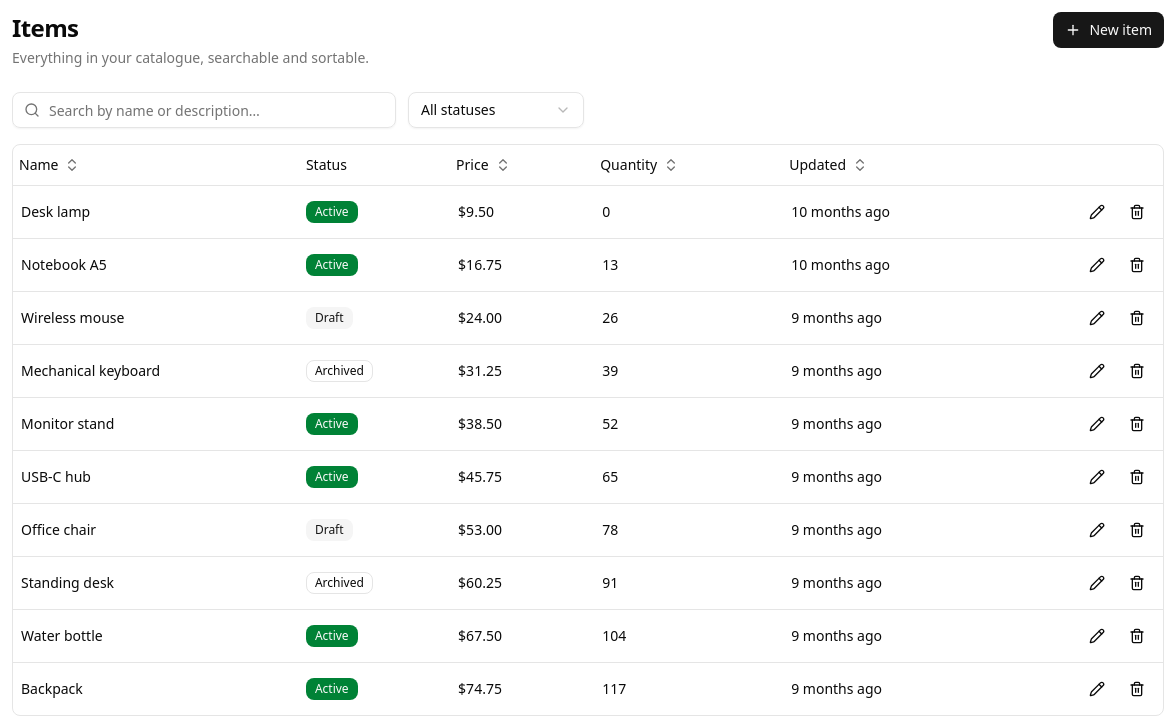
Test case: ItemsListPage › searches once typing pauses, and keeps the search in the URL
Expected: the link "Desk lamp" is shown, top-left (21, 202), bottom-right (90, 220)
In the search field named "Search items": (204, 110) top-left (12, 92), bottom-right (396, 128), type "desk"
Wait 300 ms
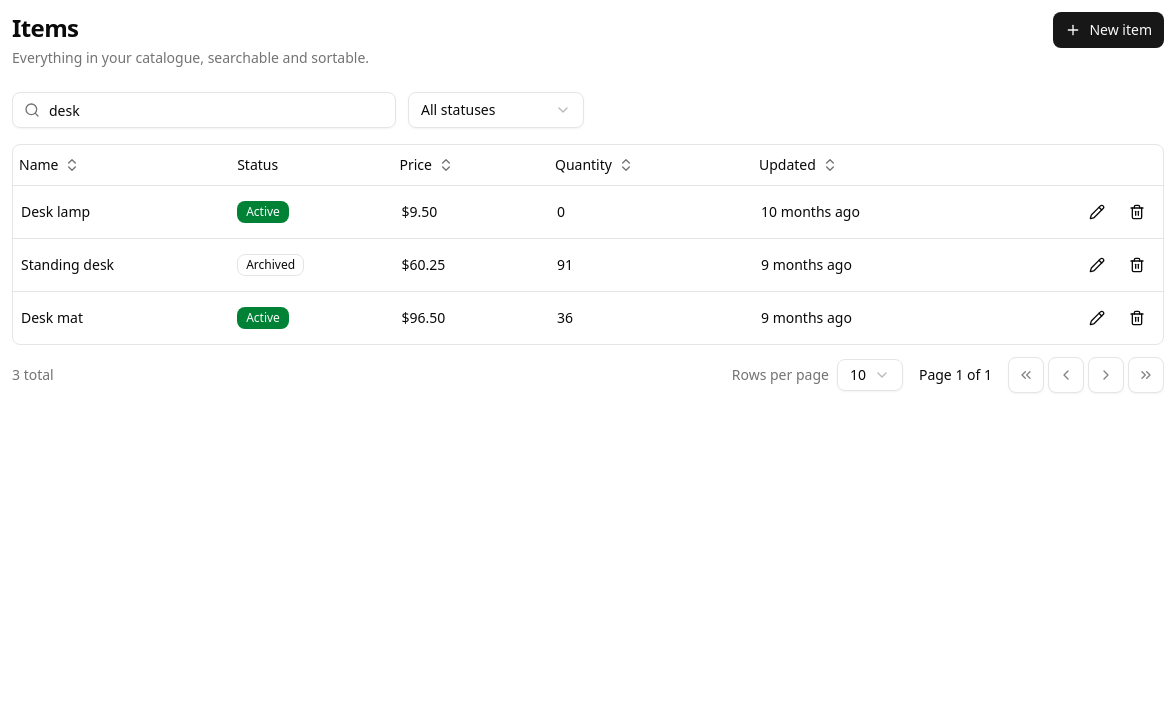
Expected: the text "3 total" is shown, top-left (12, 364), bottom-right (54, 384)
